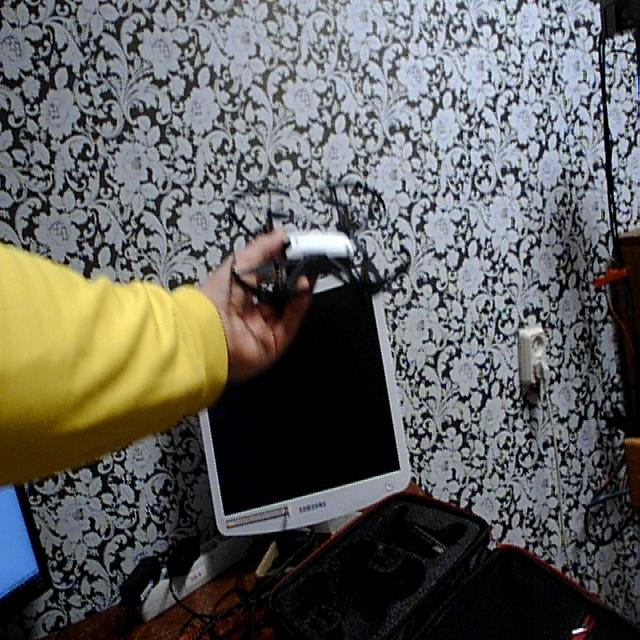drone: (219, 166, 421, 322)
